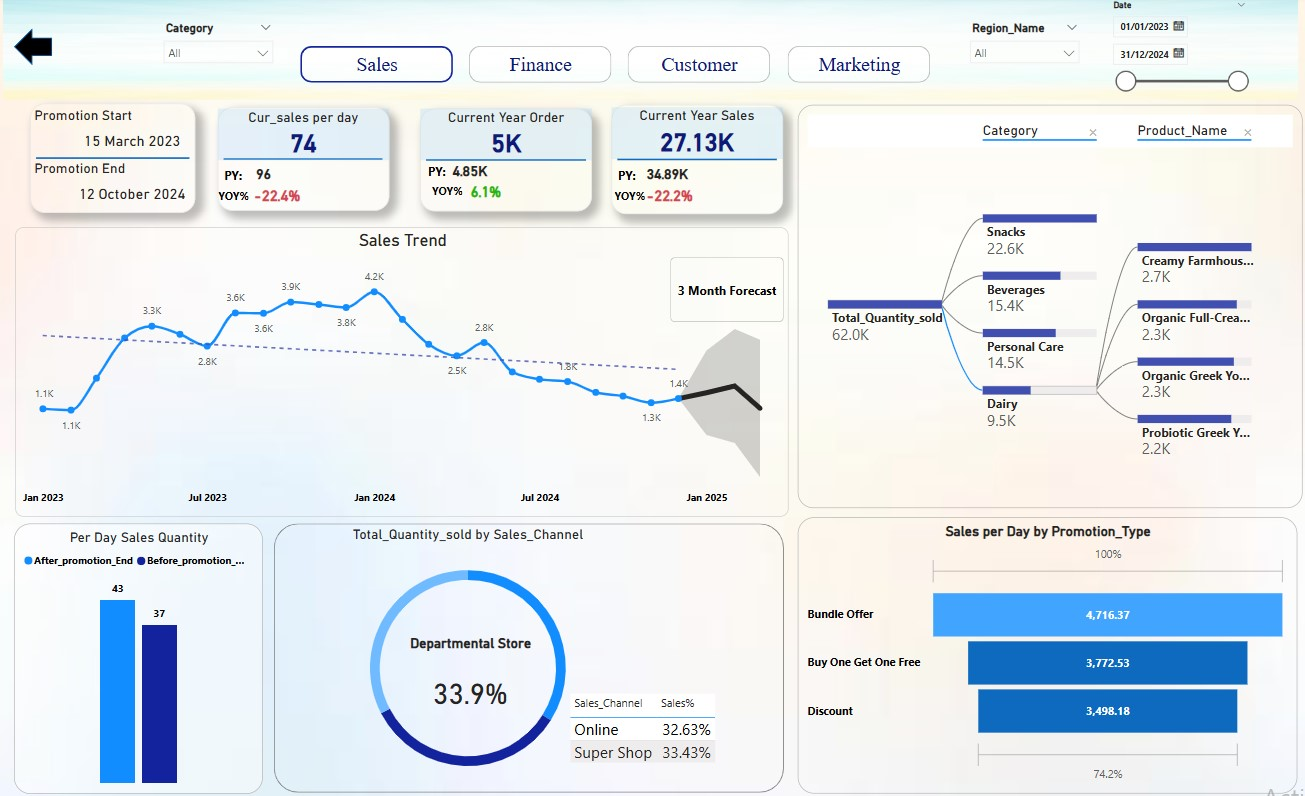

This screenshot's page, from the dashboard's own definition file:
{"tool":"powerbi","page":{"name":"Sales","canvas":[1600,1000],"ordinal":1},"visuals":[{"type":"shape","box":[340.6,641.5,623.3,329],"z":0},{"type":"shape","box":[748.4,133.5,209.2,133.5],"z":1000},{"type":"image","box":[0,0,1592.4,131.7],"z":2000},{"type":"lineChart","title":"Sales Trend","fields":{"Category":["Dim_Date.Start of Month"],"Y":["_Measure_.Total_Quantity_sold"]},"box":[19.8,283.1,945,353.5],"z":3000},{"type":"card","title":"Current Year Sales","fields":{"Values":["_Measure_.Current_year_revenue"]},"box":[748.4,135.3,209.2,63.1],"z":4000},{"type":"card","fields":{"Values":["_Measure_.Previous_Year_revenue"]},"box":[748.4,191.2,137.1,54.1],"z":5000},{"type":"card","fields":{"Values":["_Measure_.revenue_change"]},"box":[750.2,200.2,138.9,88.4],"z":6000},{"type":"shape","box":[679.9,194.8,174.9,45.1],"z":7000},{"type":"shape","box":[683.5,218.2,173.1,50.5],"z":8000},{"type":"donutChart","fields":{"Category":["Fact_Sales.Sales_Channel"],"Y":["_Measure_.Total_Quantity_sold"]},"box":[348.9,644.8,467.9,327.4],"z":9000},{"type":"shape","box":[267.3,135.9,209.2,126.8],"z":10000},{"type":"card","fields":{"Values":["_Measure_.Measure1"]},"box":[461.3,790.3,229.8,117.4],"z":11000},{"type":"card","fields":{"Values":["Min(Fact_Sales.Sales_Channel)"]},"box":[438.2,714.3,276.1,152.1],"z":12000},{"type":"decompositionTreeVisual","fields":{"ExplainBy":["Dim_Products.Category","Dim_Products.Product_Name"],"Analyze":["_Measure_.Total_Quantity_sold"]},"box":[975.5,132.3,616.7,492.7],"z":13000},{"type":"shape","box":[308.3,65,138.3,45],"z":14000},{"type":"shape","box":[475,65,138.3,45],"z":15000},{"type":"shape","box":[641.7,65,138.3,45],"z":16000},{"type":"shape","box":[808.3,65,138.3,45],"z":17000},{"type":"shape","box":[514.2,137.2,210,125.7],"z":18000},{"type":"clusteredColumnChart","title":"Per Day Sales Quantity","fields":{"Y":["_Measure_.After_promotion","_Measure_.Before_promotion"]},"box":[18.2,644.8,304.2,330.7],"z":19000},{"type":"funnel","fields":{"Category":["Dim_Promotions.Promotion_Type"],"Y":["_Measure_.revenue per order"]},"box":[975.5,636.6,610.1,337.3],"z":20000},{"type":"card","title":"Current Year Order","fields":{"Values":["_Measure_.Current_year_Order"]},"box":[514.2,137.2,210,62.8],"z":21000},{"type":"card","fields":{"Values":["_Measure_.Pre_year_order"]},"box":[506.8,187.6,137.1,54.1],"z":22000},{"type":"shape","box":[447.3,191.2,174.9,45.1],"z":23000},{"type":"card","fields":{"Values":["_Measure_.Order_Change"]},"box":[524.8,194.8,138.9,88.4],"z":24000},{"type":"shape","box":[461.7,212.8,173.1,50.5],"z":25000},{"type":"card","title":"Cur_sales per day","fields":{"Values":["_Measure_.Cur_sales_per_day"]},"box":[266.9,137.1,209.2,63.1],"z":26000},{"type":"card","fields":{"Values":["_Measure_.PY"]},"box":[254.3,191.2,137.1,54.1],"z":27000},{"type":"card","fields":{"Values":["_Measure_.YOY"]},"box":[270.5,200.2,138.9,88.4],"z":28000},{"type":"shape","box":[198.4,194.8,174.9,45.1],"z":29000},{"type":"shape","box":[200.2,218.2,173.1,50.5],"z":30000},{"type":"card","title":"Promotion Start","fields":{"Values":["Min(Dim_Promotions.Start_Date)"]},"box":[37.9,135.3,248.9,64.9],"z":31000},{"type":"card","title":"Promotion End","fields":{"Values":["Max(Dim_Promotions.End_Date)"]},"box":[37.9,200.2,248.9,64.9],"z":32000},{"type":"shape","box":[37.9,131.7,202,133.5],"z":33000},{"type":"tableEx","fields":{"Values":["Fact_Sales.Sales_Channel","_Measure_.Measure1"]},"box":[692.5,847.6,250.7,117.2],"z":34000},{"type":"slicer","fields":{"Values":["Dim_Region.Region_Name"]},"box":[1175.6,26.5,153.8,71.1],"z":35000},{"type":"slicer","fields":{"Values":["Dim_Date.Date"]},"box":[1349.2,0,186.8,120.7],"z":36000},{"type":"shape","box":[820.6,319.2,138.9,79.4],"z":37000},{"type":"shape","box":[18,39.7,46.9,45.1],"z":38000},{"type":"slicer","fields":{"Values":["Dim_Products.Category"]},"box":[85,28.3,153.3,71.7],"z":39000},{"type":"shape","box":[975,65,138.3,45],"z":40000}]}

Visuals, with their boxes in screenshot pixels (x1, y1, x2, y2), scaled from the page's 1600x1000 canvas onto the 1305x796 screenshot:
shape: <region>278, 511, 786, 773</region>
shape: <region>610, 106, 781, 213</region>
image: <region>0, 0, 1299, 105</region>
"Sales Trend" lineChart: <region>16, 225, 787, 507</region>
"Current Year Sales" card: <region>610, 108, 781, 158</region>
card - _Measure_.Previous_Year_revenue: <region>610, 152, 722, 195</region>
card - _Measure_.revenue_change: <region>612, 159, 725, 230</region>
shape: <region>555, 155, 697, 191</region>
shape: <region>557, 174, 699, 214</region>
donutChart - Fact_Sales.Sales_Channel x _Measure_.Total_Quantity_sold: <region>285, 513, 666, 774</region>
shape: <region>218, 108, 389, 209</region>
card - _Measure_.Measure1: <region>376, 629, 564, 723</region>
card - Min(Fact_Sales.Sales_Channel): <region>357, 569, 583, 690</region>
decompositionTreeVisual - Dim_Products.Category x Dim_Products.Product_Name: <region>796, 105, 1299, 498</region>
shape: <region>251, 52, 364, 88</region>
shape: <region>387, 52, 500, 88</region>
shape: <region>523, 52, 636, 88</region>
shape: <region>659, 52, 772, 88</region>
shape: <region>419, 109, 591, 209</region>
"Per Day Sales Quantity" clusteredColumnChart: <region>15, 513, 263, 776</region>
funnel - Dim_Promotions.Promotion_Type x _Measure_.revenue per order: <region>796, 507, 1293, 775</region>
"Current Year Order" card: <region>419, 109, 591, 159</region>
card - _Measure_.Pre_year_order: <region>413, 149, 525, 192</region>
shape: <region>365, 152, 507, 188</region>
card - _Measure_.Order_Change: <region>428, 155, 541, 225</region>
shape: <region>377, 169, 518, 210</region>
"Cur_sales per day" card: <region>218, 109, 388, 159</region>
card - _Measure_.PY: <region>207, 152, 319, 195</region>
card - _Measure_.YOY: <region>221, 159, 334, 230</region>
shape: <region>162, 155, 304, 191</region>
shape: <region>163, 174, 304, 214</region>
"Promotion Start" card: <region>31, 108, 234, 159</region>
"Promotion End" card: <region>31, 159, 234, 211</region>
shape: <region>31, 105, 196, 211</region>
tableEx - Fact_Sales.Sales_Channel x _Measure_.Measure1: <region>565, 675, 769, 768</region>
slicer - Dim_Region.Region_Name: <region>959, 21, 1084, 78</region>
slicer - Dim_Date.Date: <region>1100, 0, 1253, 96</region>
shape: <region>669, 254, 783, 317</region>
shape: <region>15, 32, 53, 68</region>
slicer - Dim_Products.Category: <region>69, 23, 194, 80</region>
shape: <region>795, 52, 908, 88</region>
